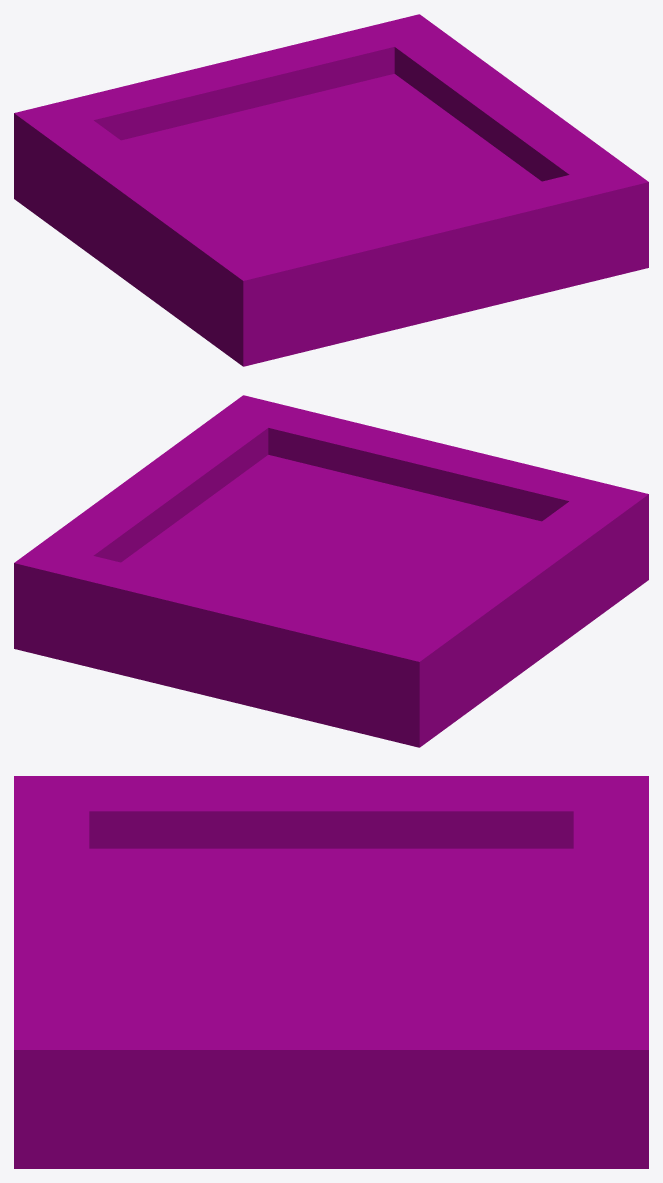
File: Collider_Ceiling_002.fbx
3 views of the same model, one above another, from view 1: azimuth 30°, elevation 25°; view 2: azimuth 150°, elevation 25°; view 3: azimuth 270°, elevation 25° (orthographic). The views are drawn at different scales.
Parts seen in each view (by area): view 1: Collider_Ceiling_002; view 2: Collider_Ceiling_002; view 3: Collider_Ceiling_002.
Boxes of the visible parts, left/top/right/bottom form: Collider_Ceiling_002: left=14, top=14, right=648, bottom=366; Collider_Ceiling_002: left=14, top=395, right=648, bottom=747; Collider_Ceiling_002: left=14, top=776, right=648, bottom=1168.
Size of the model in its own units: 3.01 by 0.6083 by 2.95.
